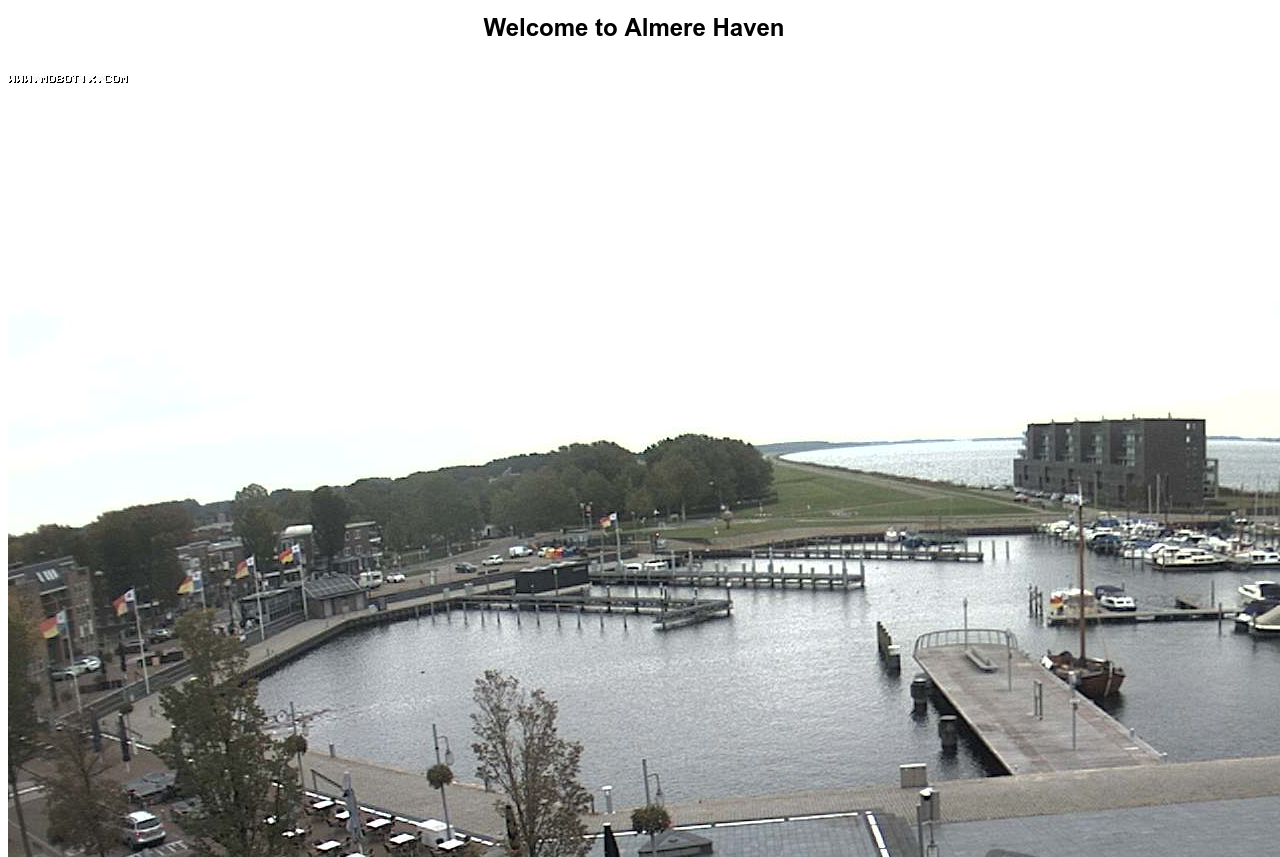yes: (37, 605, 72, 641), (178, 569, 207, 593), (233, 555, 258, 582), (116, 586, 141, 613), (277, 544, 305, 566)
